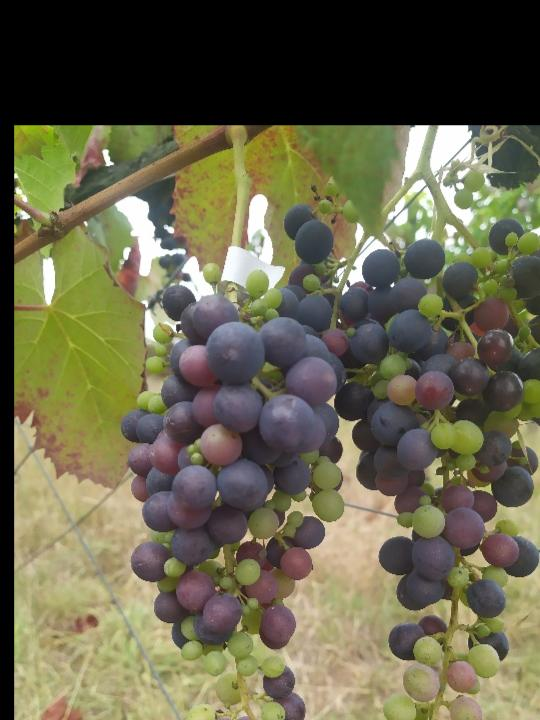grape: (283, 172, 540, 720), (118, 262, 358, 720)
